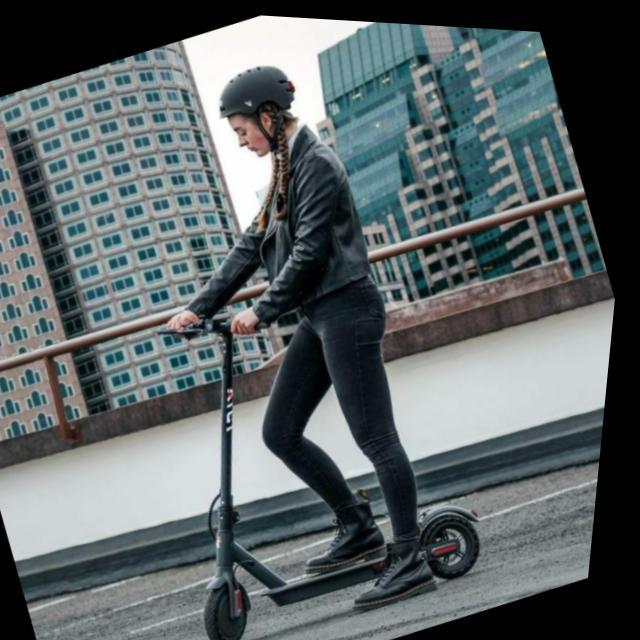Helmet: (215, 63, 298, 160)
